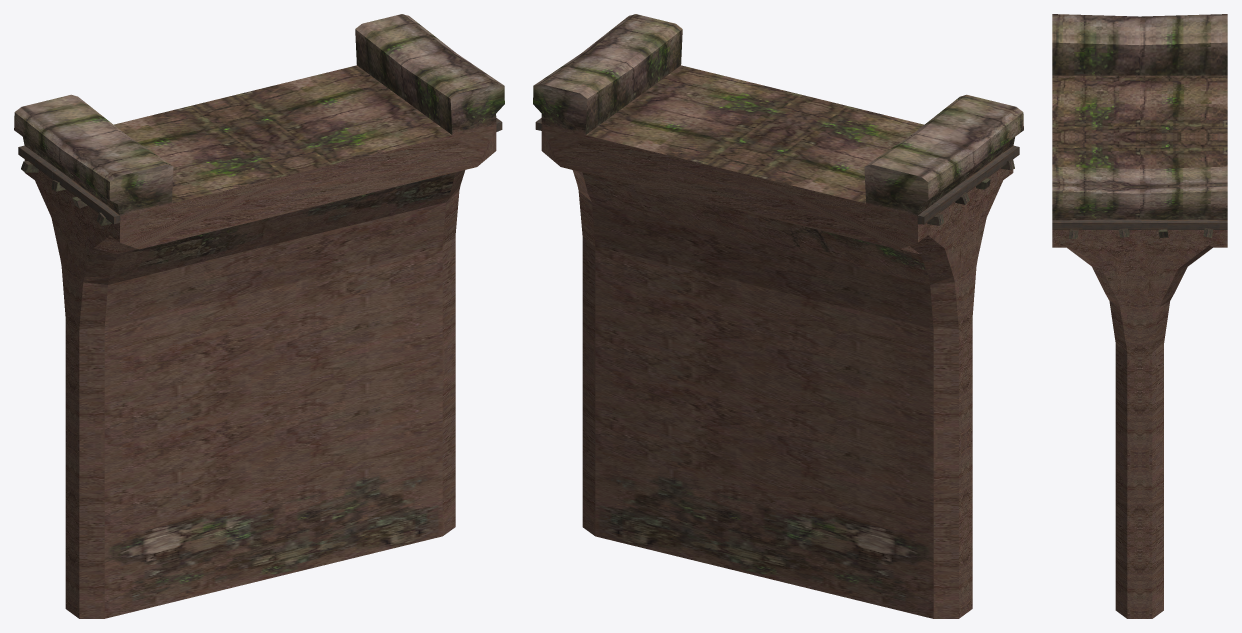
File: C1SMBDG13H.obj
The picture shows the model from 3 angles, left to right: view 1: azimuth 30°, elevation 25°; view 2: azimuth 150°, elevation 25°; view 3: azimuth 270°, elevation 25°; orthographic projection. The views are drawn at different scales.
Visible parts, largest first — view 1: Node 0; view 2: Node 0; view 3: Node 0.
Boxes of the visible parts, left/top/right/bottom form: Node 0: left=14, top=14, right=504, bottom=618; Node 0: left=533, top=14, right=1023, bottom=618; Node 0: left=1052, top=14, right=1227, bottom=618.
Size of the model in its own units: 24.3 by 27.33 by 10.
Materials: 3 (3 with a texture image).
